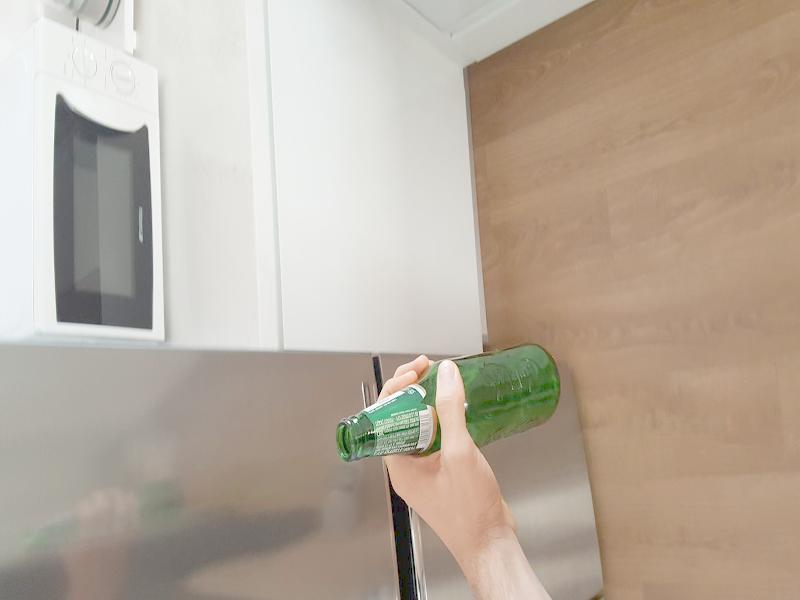Beer: (336, 345, 561, 461)
